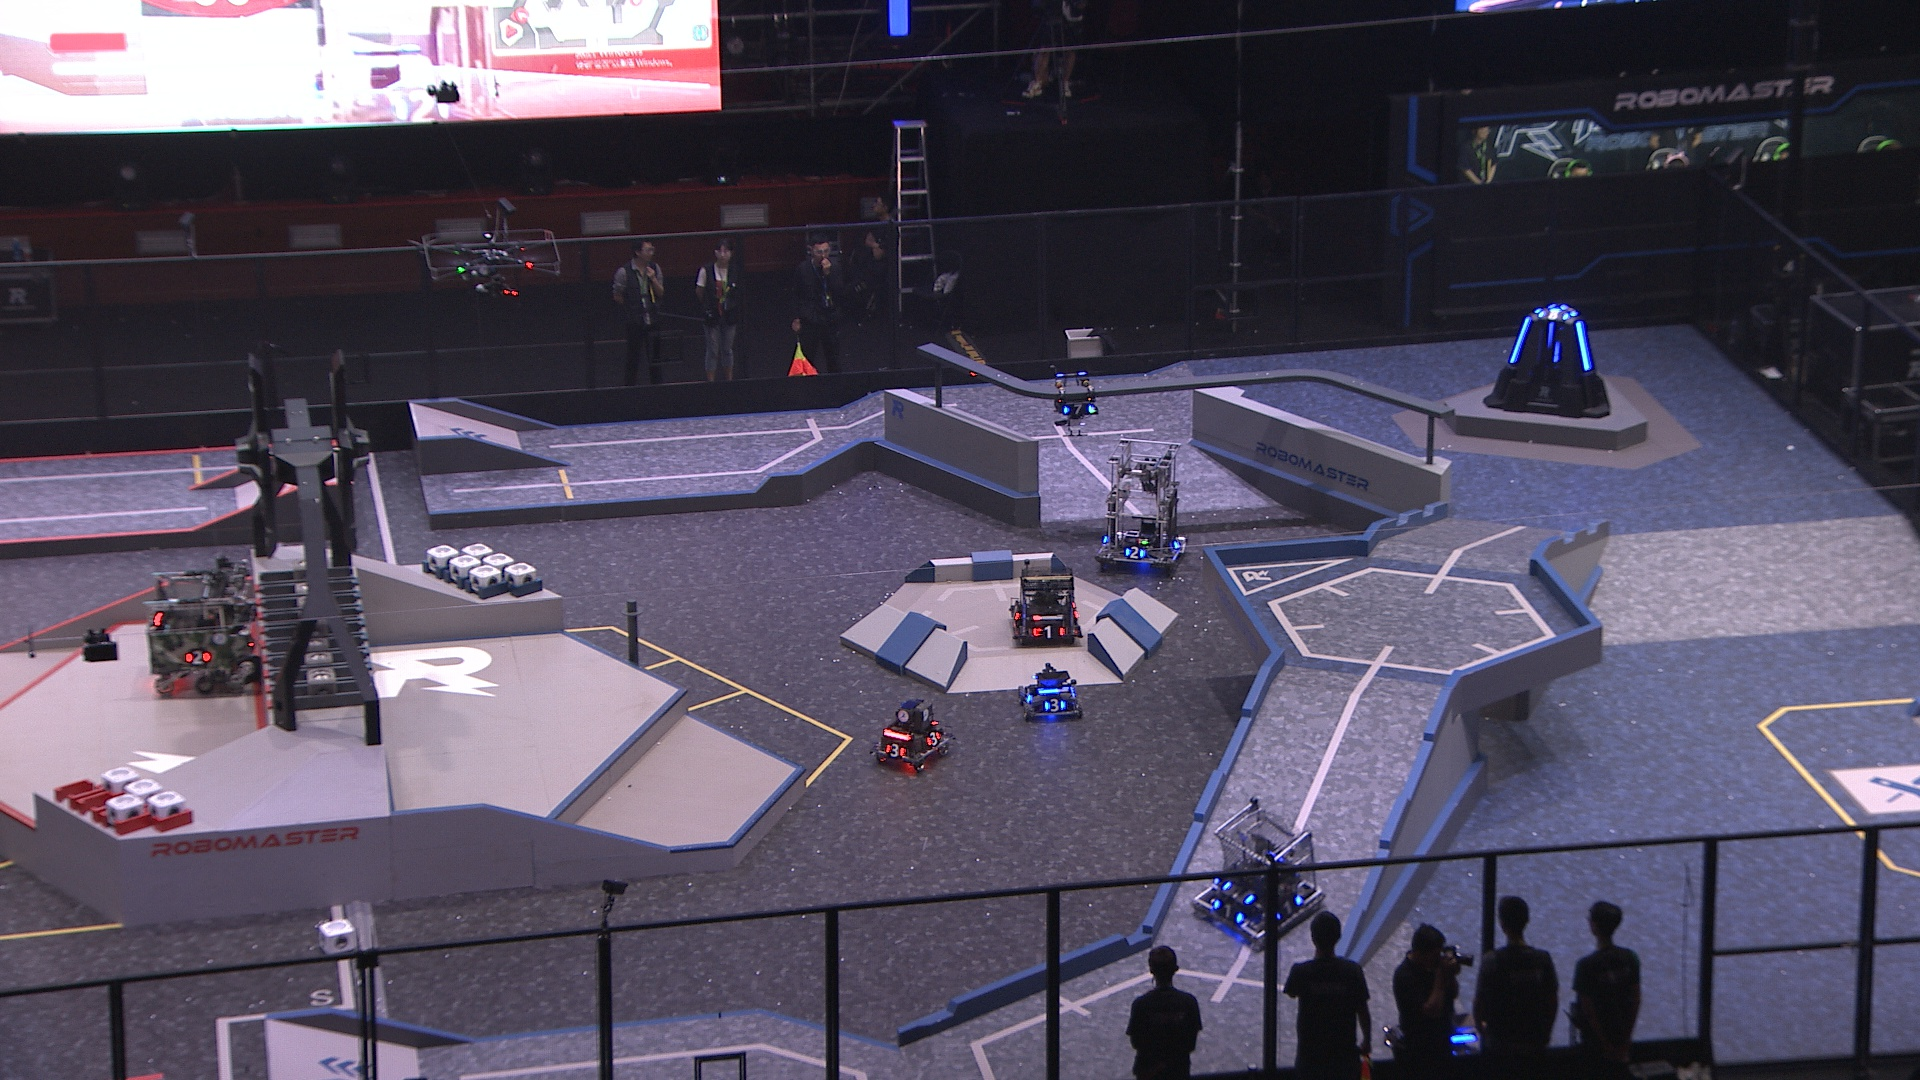armor: (1505, 315, 1532, 367), (1575, 316, 1593, 375), (1211, 898, 1247, 924), (1271, 893, 1305, 920), (1220, 880, 1254, 903), (1534, 306, 1571, 324), (1060, 401, 1097, 419), (1029, 622, 1067, 640), (1120, 543, 1147, 562), (923, 727, 944, 749), (183, 650, 212, 666), (1007, 599, 1025, 622), (1043, 698, 1068, 713), (1544, 320, 1557, 348), (884, 741, 906, 757), (1171, 531, 1187, 553), (1021, 684, 1036, 705), (1557, 305, 1581, 318)
base: (1481, 301, 1614, 419)
car: (1188, 793, 1325, 949), (140, 553, 261, 703), (1093, 436, 1189, 571), (1379, 1002, 1494, 1071), (1007, 559, 1083, 655), (868, 694, 955, 777), (1013, 662, 1083, 731)
watcher: (1050, 361, 1100, 439)
